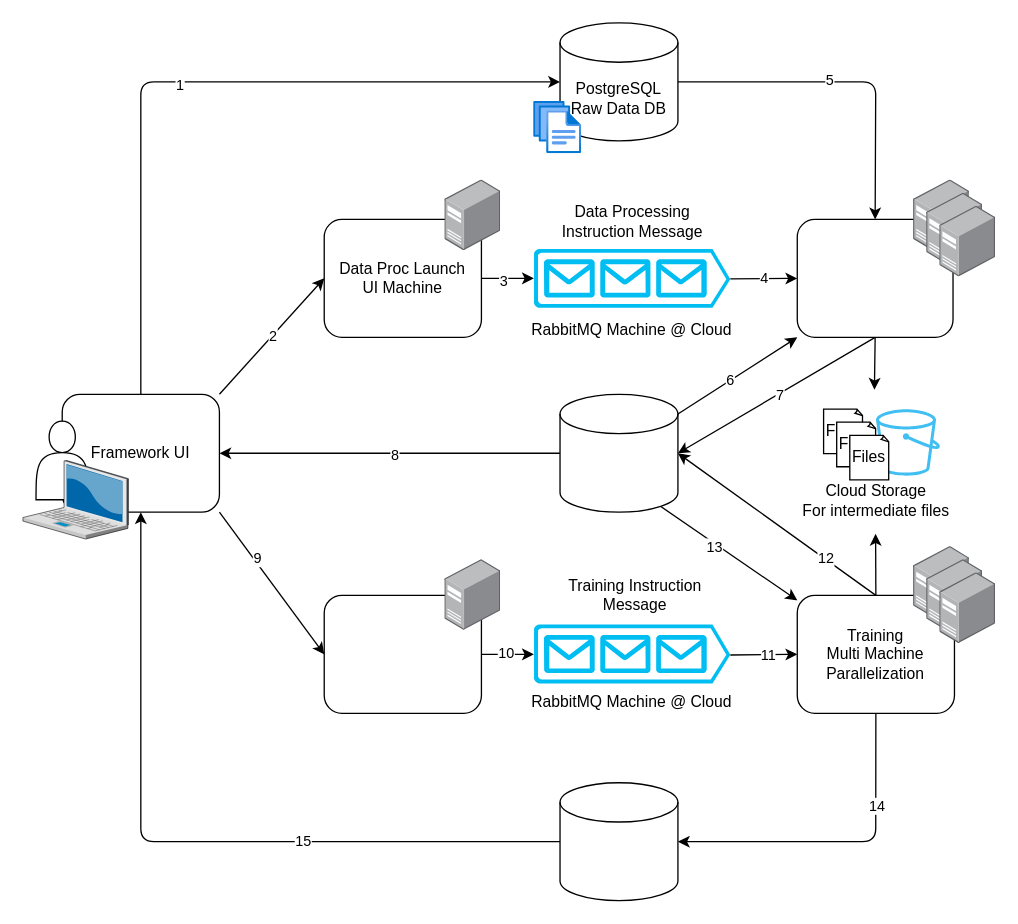
The diagram is 1018 pixels wide and 924 high, and some of its shapes have lost their labels. The shapes that lost their labels are listed below. From the top down, each one's box as (x1, y1, x2, y2) in pixels, then its label:
(796, 218, 953, 337): Data Processing Multi Machine Parallelization
(559, 393, 678, 512): PostgreSQL Processed Data DB
(323, 594, 481, 713): Training Launch UI Machine
(559, 781, 678, 901): PostgreSQL Training & Results DB
